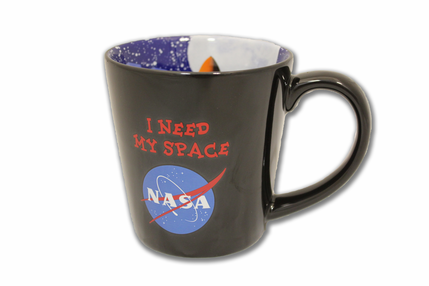NASA: (137, 162, 227, 234)
